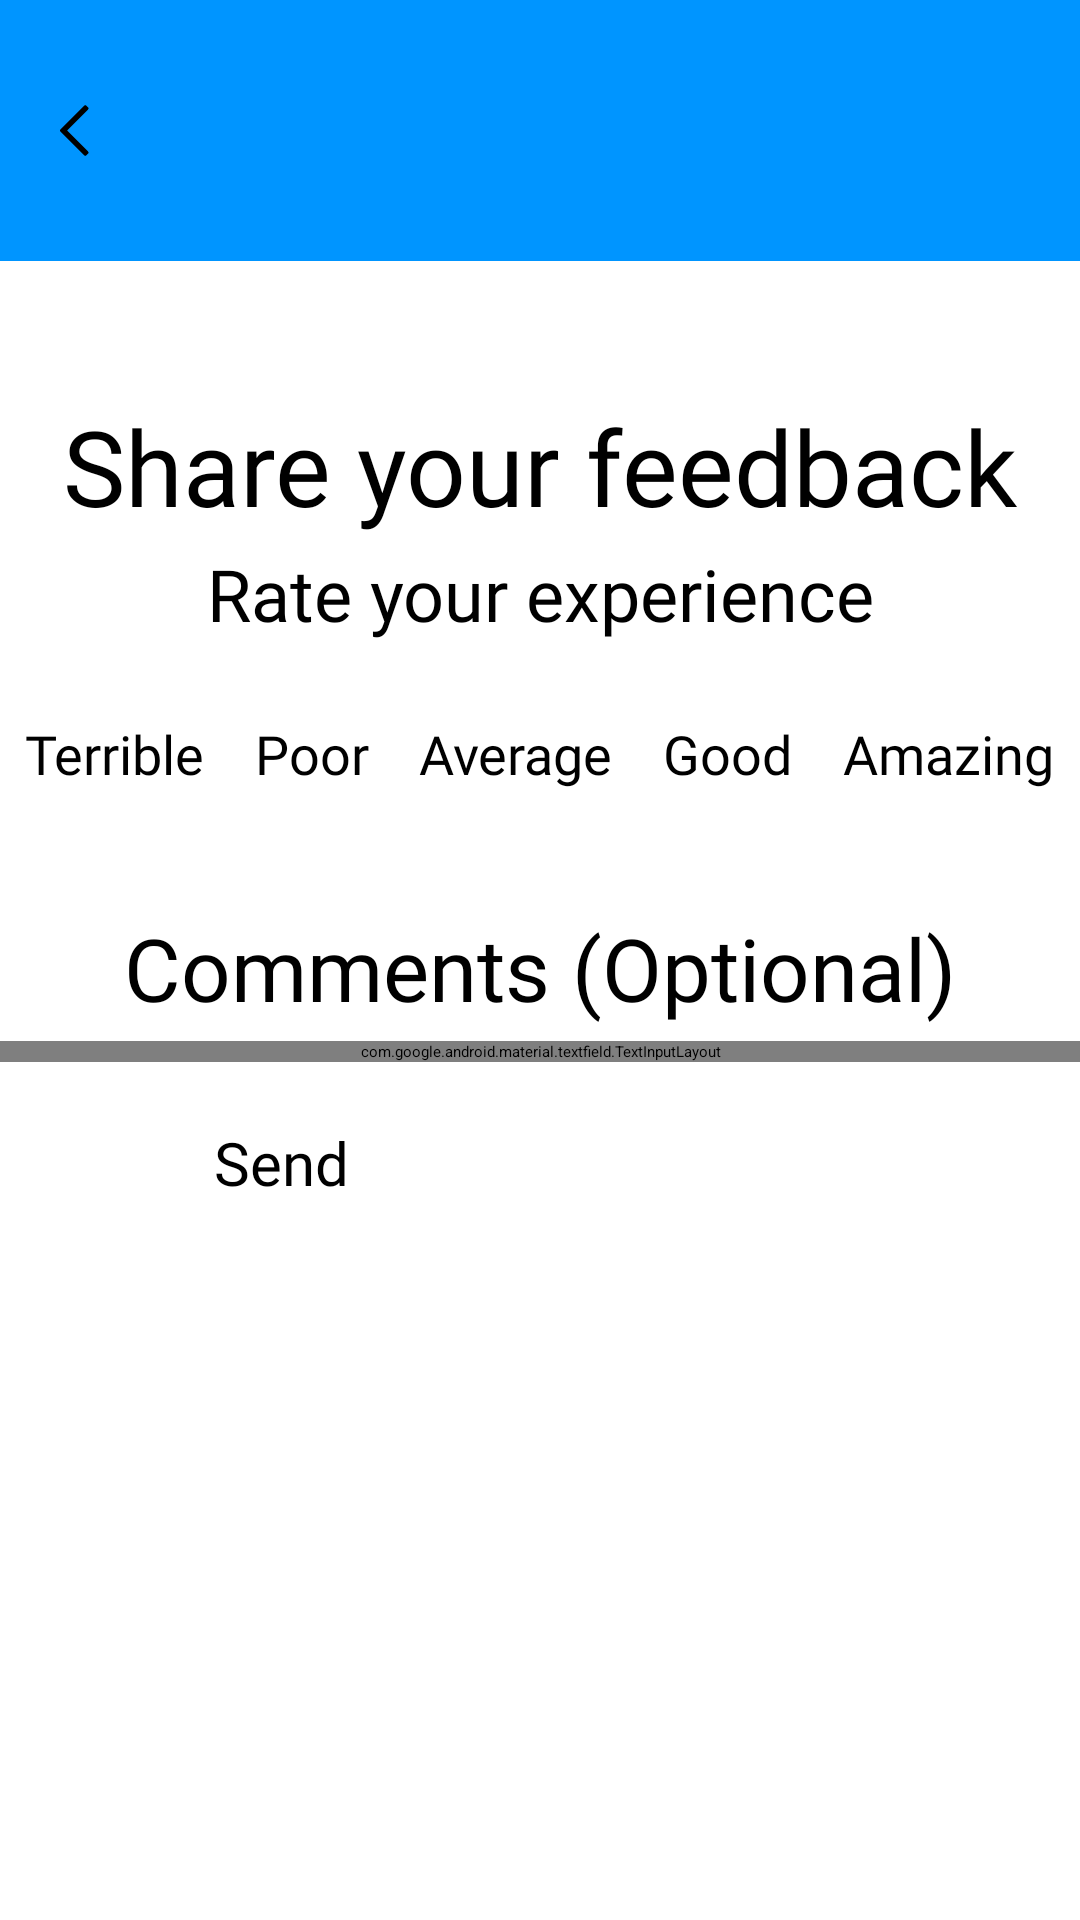

Screen size 1080px×1920px. Icon name, then its center in pixels as (x=x, y=y):
back arrow: (x=74, y=130)
